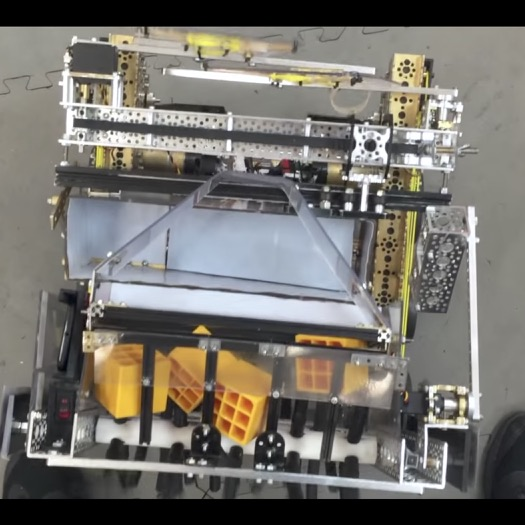robot: (1, 28, 487, 500)
